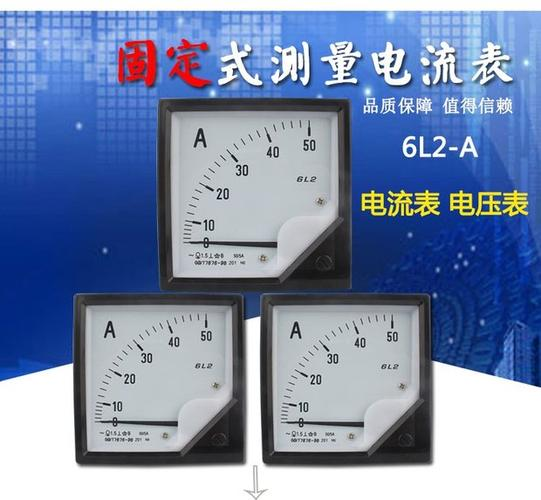pointer: (170, 111, 338, 277), (273, 305, 419, 452), (85, 305, 230, 452)
